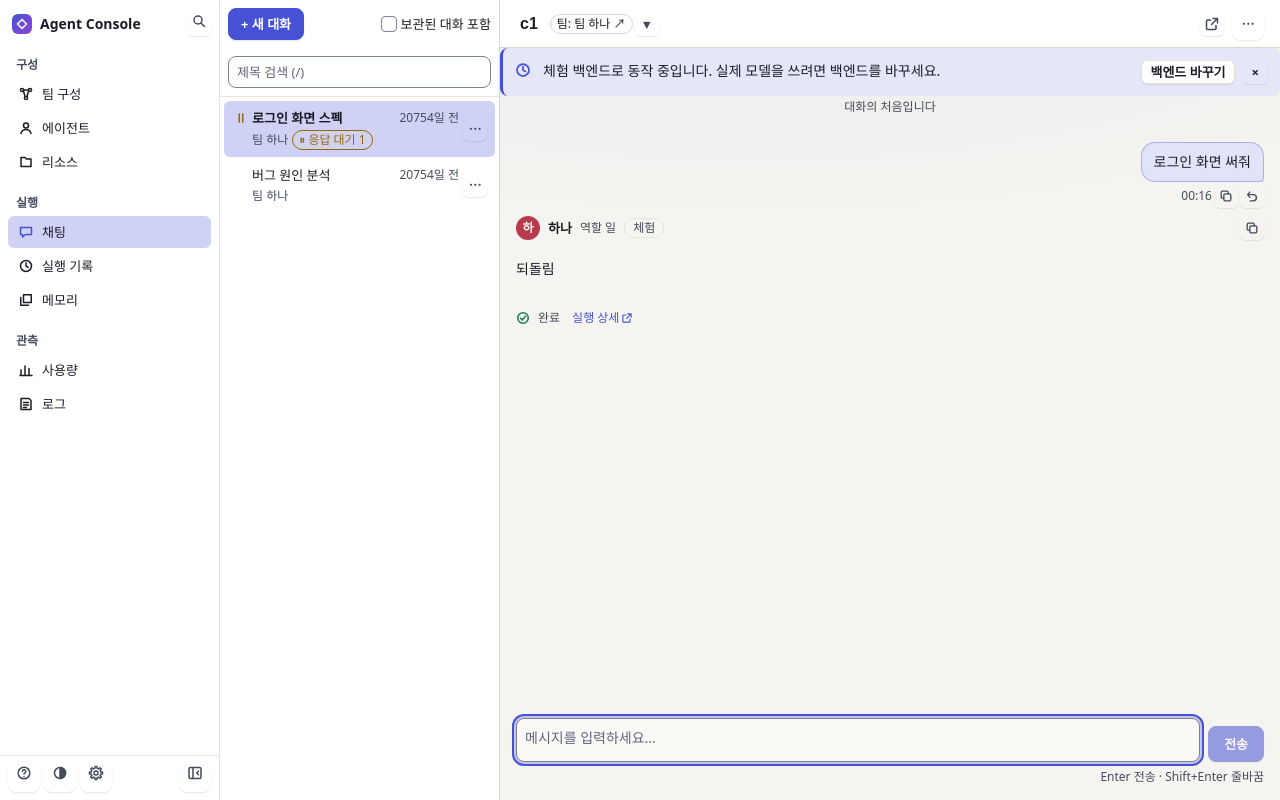
Scenario: 백엔드 해결 카드(채팅) › 디스크립터 배지가 있는 백엔드로 돌면 응답 머리에 칩과 한 줄 안내가 뜨고 [백엔드 바꾸기]가 카드를 연다
The width and height of the screenshot is (1280, 800).
Expected: the text with test id "reply-badge" reads "체험", [633,219,655,236]
Expected: the text with test id "backend-badge-note" shows "체험 백엔드로 동작 중입니다", [543,61,940,80]
Click the button "백엔드 바꾸기". click: (1188, 72)
box: [1141,60,1234,84]
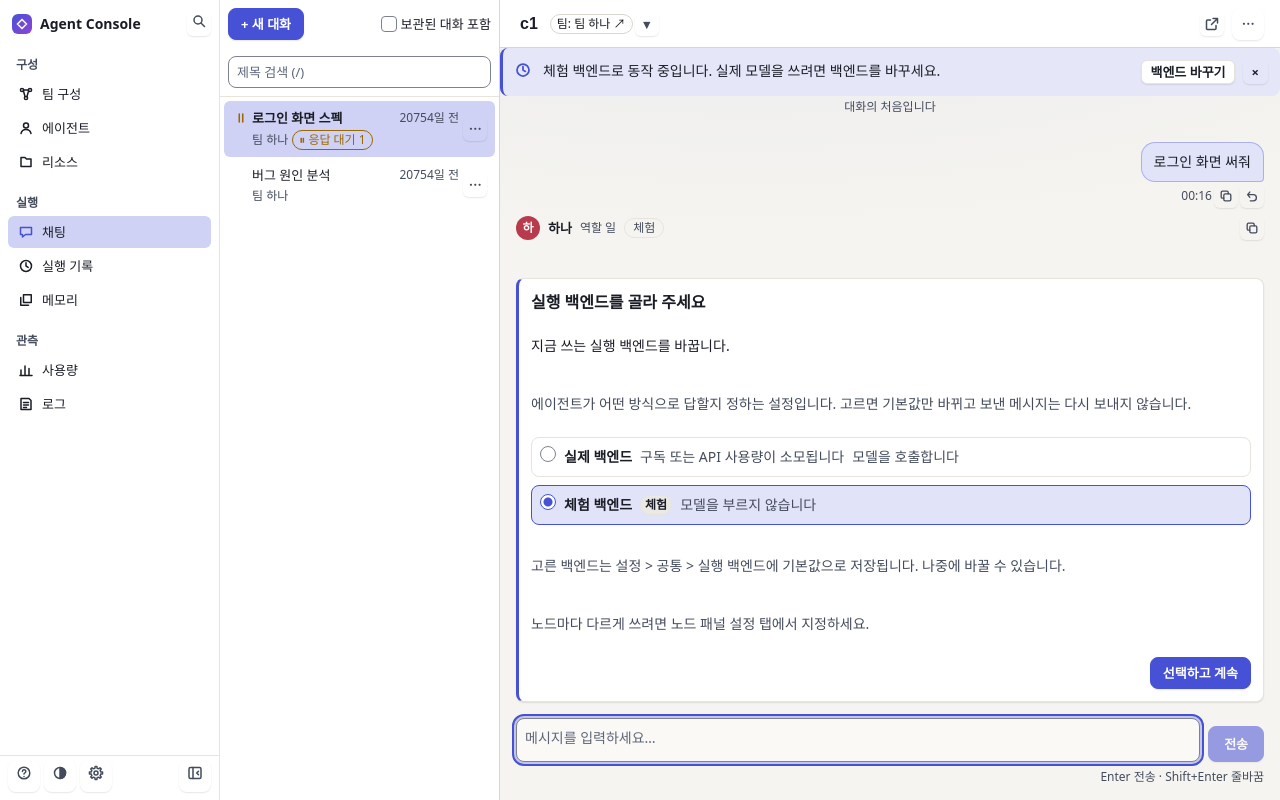
Expected: the text "지금 쓰는 실행 백엔드를 바꿉니다." is shown, [531,336,730,355]
